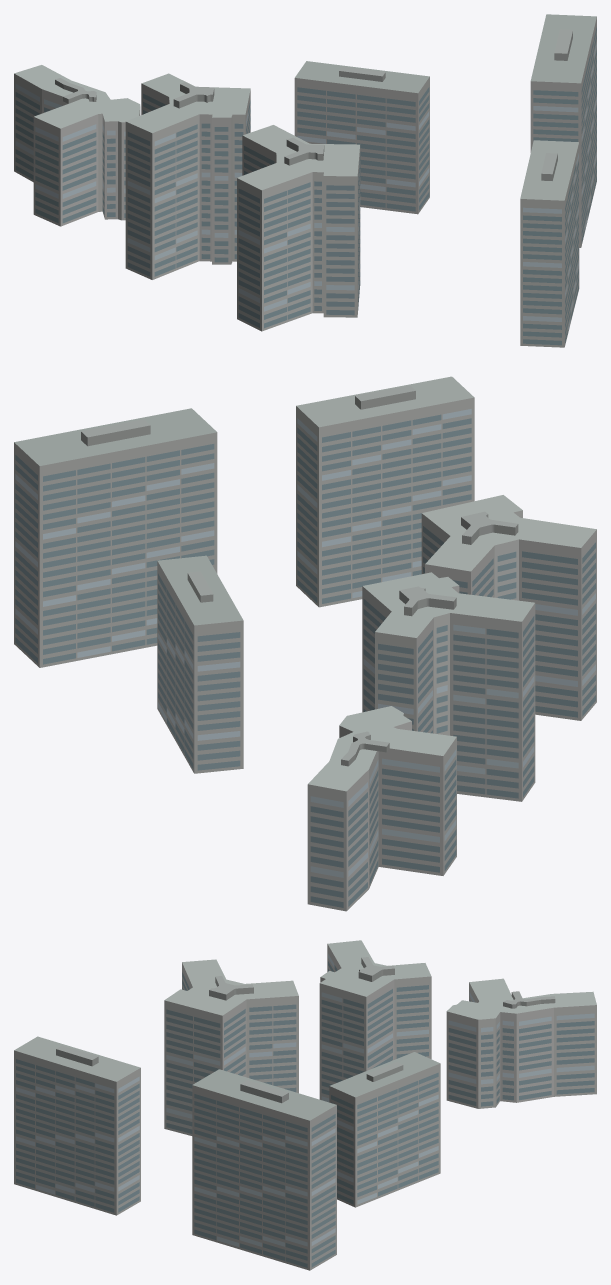
Rendered from apt-a15776001.glb.
3 views of the same model, one above another, from view 1: azimuth 30°, elevation 25°; view 2: azimuth 150°, elevation 25°; view 3: azimuth 270°, elevation 25° (orthographic). The views are drawn at different scales.
Visible parts, largest first — view 1: apt-a15776001; view 2: apt-a15776001; view 3: apt-a15776001.
Part boxes in pixels (<box>): apt-a15776001: <box>14,14,596,347</box>; apt-a15776001: <box>14,376,596,911</box>; apt-a15776001: <box>14,940,596,1270</box>.
Size of the model in its own units: 158 by 57 by 192.
